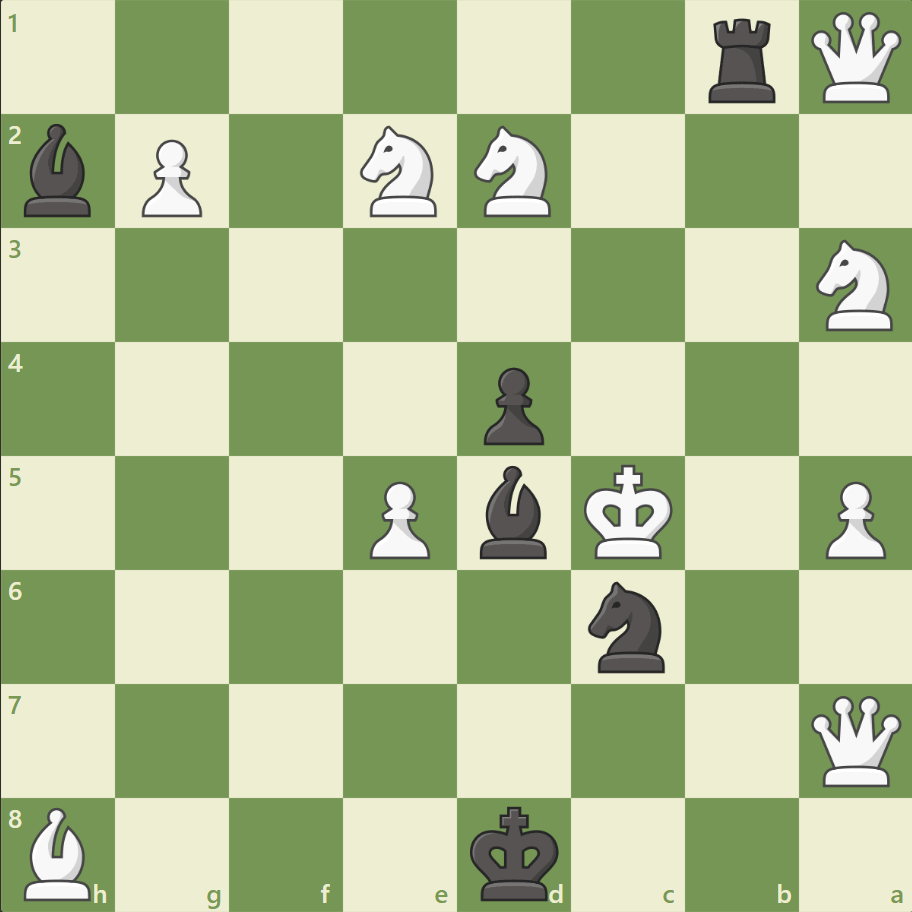B: (17, 801, 101, 904)
K: (579, 458, 679, 566)
N: (351, 121, 449, 223), (806, 234, 903, 337), (465, 121, 562, 223)
P: (133, 132, 208, 223), (815, 473, 889, 564), (361, 473, 435, 564)
Q: (805, 690, 904, 789), (805, 9, 904, 108)
b: (471, 460, 555, 563), (17, 120, 101, 222)
k: (465, 798, 565, 906)
n: (579, 575, 676, 677)
p: (474, 359, 549, 450)
r: (700, 12, 783, 109)
